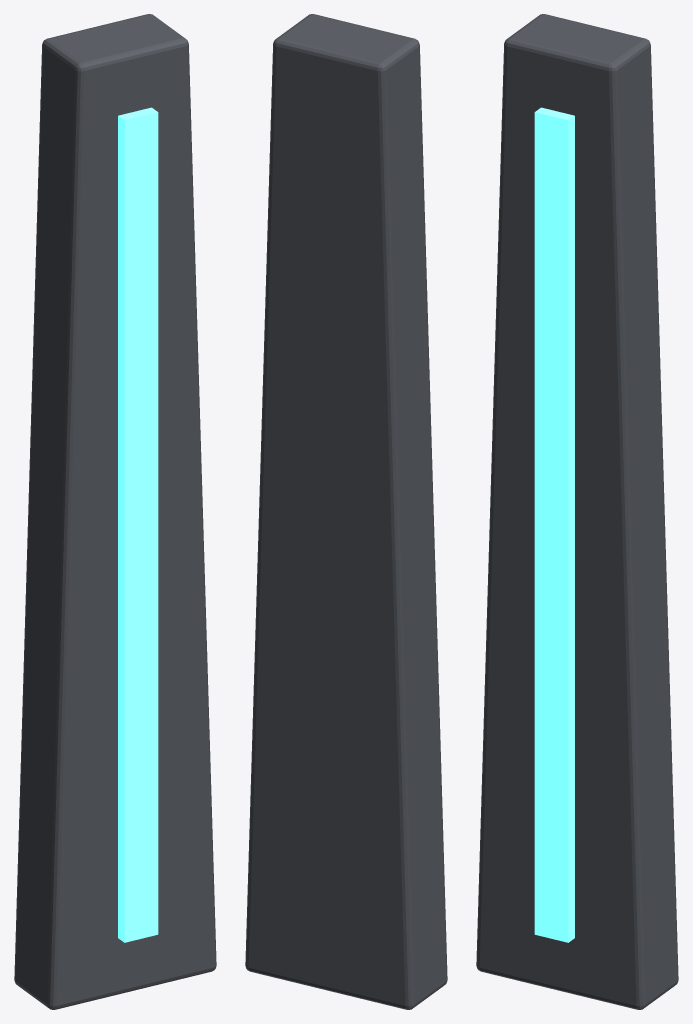
Rendered from floor_uplight_wedge.glb.
3 views of the same model, side by side, from view 1: azimuth 30°, elevation 25°; view 2: azimuth 150°, elevation 25°; view 3: azimuth 330°, elevation 25° (orthographic).
Parts seen in each view (by area): view 1: GD_floor_uplight_wedge__m0, GD_floor_uplight_wedge__m1; view 2: GD_floor_uplight_wedge__m0; view 3: GD_floor_uplight_wedge__m0, GD_floor_uplight_wedge__m1.
Part boxes in pixels (x1,y1,x2,y2): GD_floor_uplight_wedge__m0: (14,14,216,1009); GD_floor_uplight_wedge__m1: (118,107,158,942); GD_floor_uplight_wedge__m0: (245,14,447,1009); GD_floor_uplight_wedge__m0: (476,14,678,1009); GD_floor_uplight_wedge__m1: (534,107,574,942).
Bounding box in the file's own units: 0.2994 × 1.6 × 0.14.
